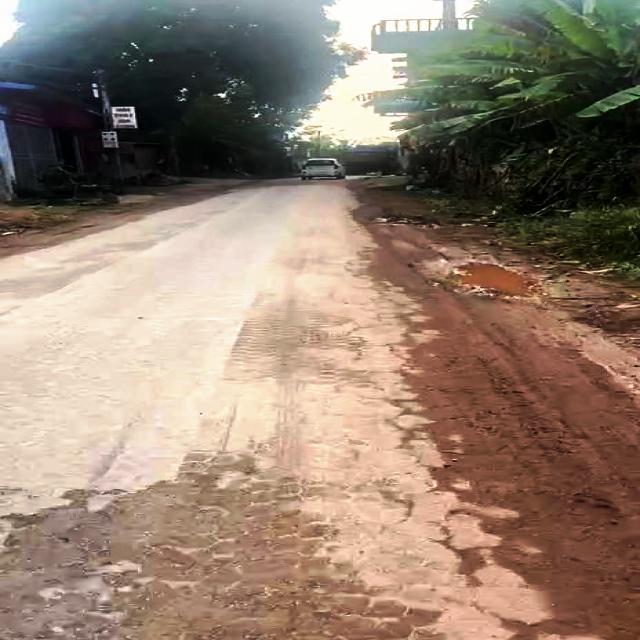pothole: (436, 257, 539, 301)
